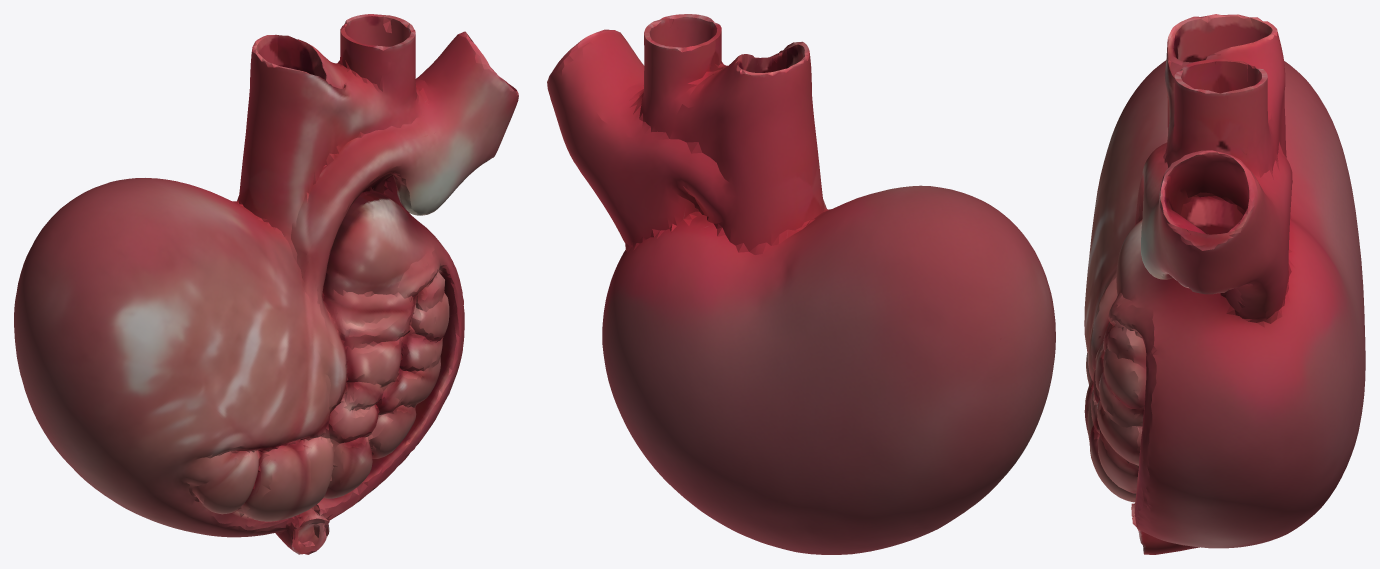
The model's file is dog_stomach.glb.
3 renders of one model, left to right at view 1: azimuth 30°, elevation 25°; view 2: azimuth 150°, elevation 25°; view 3: azimuth 270°, elevation 25°, orthographic. The views are drawn at different scales.
Visible parts, largest first — view 1: model; view 2: model; view 3: model.
Part boxes in pixels (x1=…): model: x1=14, y1=14, x2=518, y2=554; model: x1=547, y1=14, x2=1055, y2=554; model: x1=1084, y1=14, x2=1365, y2=554.
Bounding box in the file's own units: 1.9 × 1.81 × 0.8634.
1 material, 1 textured.
